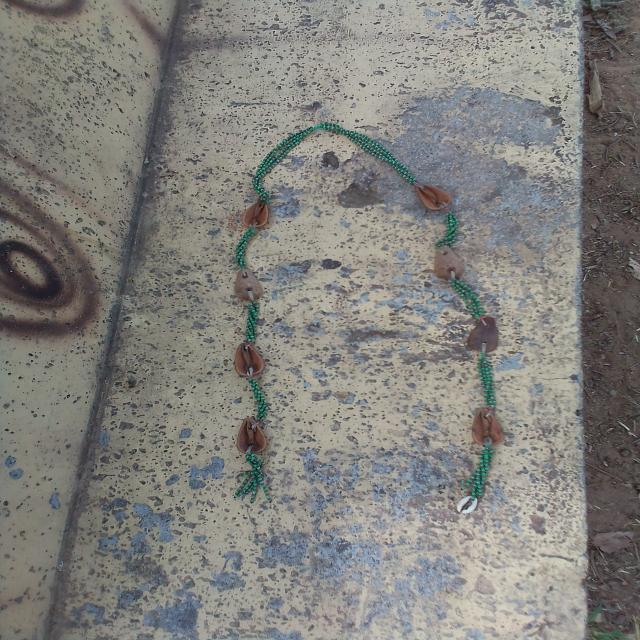facedown: (430, 239, 468, 283), (463, 314, 504, 354), (226, 265, 270, 302)
faceup: (470, 402, 508, 449), (230, 338, 266, 381), (235, 415, 271, 458), (240, 195, 274, 233), (413, 181, 453, 213)
